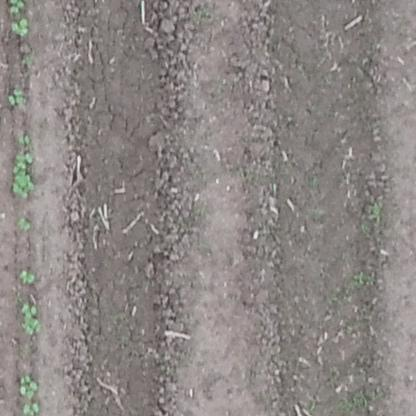vc: (7, 152, 39, 198), (19, 300, 43, 336), (16, 373, 41, 399), (4, 85, 24, 108), (15, 267, 36, 288), (10, 17, 30, 38), (14, 216, 34, 232), (21, 403, 45, 414), (7, 1, 25, 14), (17, 134, 30, 146)
